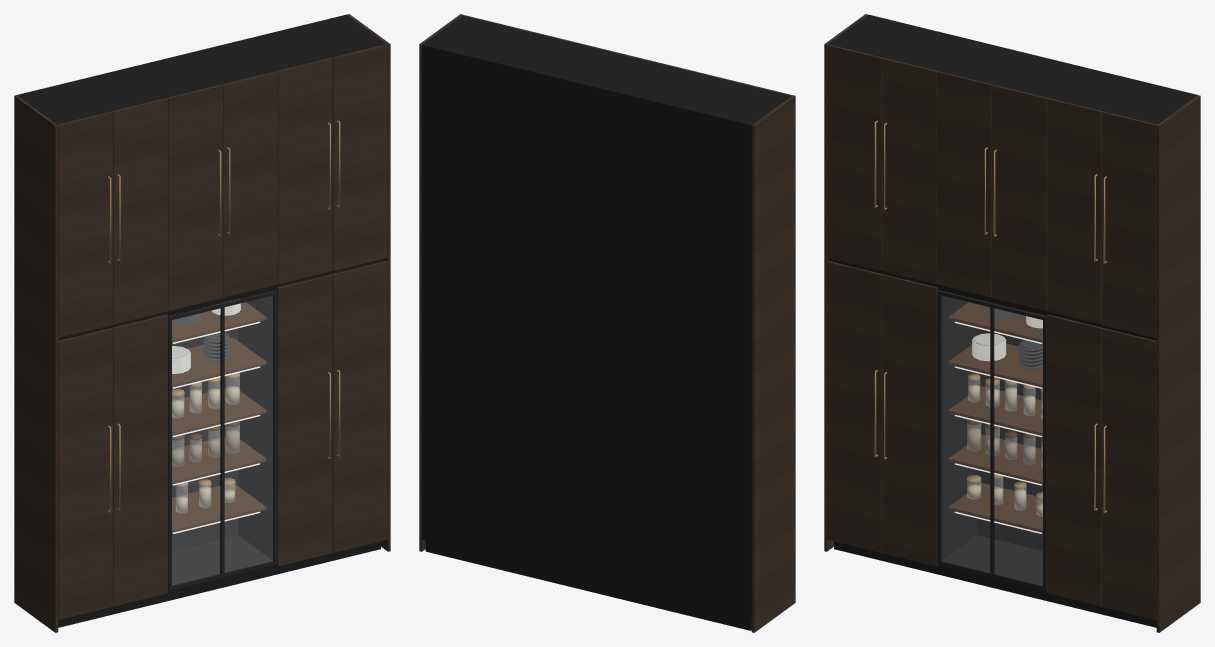
The model's file is kitchen_pantry.gltf.
The picture shows the model from 3 angles, left to right: view 1: azimuth 30°, elevation 25°; view 2: azimuth 150°, elevation 25°; view 3: azimuth 330°, elevation 25°; orthographic projection.
Parts seen in each view (by area): view 1: KitchenPantry_EndPanel0, KitchenPantry_SolidR_DoorL, KitchenPantry_SolidR_DoorR, KitchenPantry_SolidL_DoorR, KitchenPantry_SolidL_DoorL, KitchenPantry_Glass_R, KitchenPantry_Glass_L, KitchenPantry_Upper2_DoorR, KitchenPantry_Upper1_DoorR, KitchenPantry_Upper0_DoorL, KitchenPantry_Upper1_DoorL, KitchenPantry_Upper0_DoorR (+25 smaller); view 2: KitchenPantry_BodyL, KitchenPantry_BodyR, KitchenPantry_BodyM_Back, KitchenPantry_EndPanel0, KitchenPantry_BodyM_Top, KitchenPantry_Plinth, KitchenPantry_EndPanel1; view 3: KitchenPantry_EndPanel1, KitchenPantry_SolidL_DoorR, KitchenPantry_SolidL_DoorL, KitchenPantry_SolidR_DoorL, KitchenPantry_SolidR_DoorR, KitchenPantry_Glass_L, KitchenPantry_Glass_R, KitchenPantry_Upper0_DoorL, KitchenPantry_Upper1_DoorL, KitchenPantry_Upper2_DoorR, KitchenPantry_Upper1_DoorR, KitchenPantry_Upper2_DoorL (+26 smaller).
Part boxes in pixels (x1,y1,x2,y2): KitchenPantry_EndPanel0: (14,95,58,632); KitchenPantry_SolidR_DoorL: (277,274,332,566); KitchenPantry_SolidR_DoorR: (332,261,387,552); KitchenPantry_SolidL_DoorR: (112,314,167,606); KitchenPantry_SolidL_DoorL: (58,328,112,619); KitchenPantry_Glass_R: (225,296,272,571); KitchenPantry_Glass_L: (172,309,219,584); KitchenPantry_Upper2_DoorR: (332,44,387,270); KitchenPantry_Upper1_DoorR: (222,71,277,297); KitchenPantry_Upper0_DoorL: (57,111,112,337); KitchenPantry_Upper1_DoorL: (167,84,222,310); KitchenPantry_Upper0_DoorR: (112,98,167,324); KitchenPantry_BodyL: (641,69,791,620); KitchenPantry_BodyR: (422,15,571,566); KitchenPantry_BodyM_Back: (532,71,642,592); KitchenPantry_EndPanel0: (751,95,795,632); KitchenPantry_BodyM_Top: (532,42,681,317); KitchenPantry_Plinth: (425,541,751,630); KitchenPantry_EndPanel1: (419,14,462,551); KitchenPantry_EndPanel1: (1156,95,1200,632); KitchenPantry_SolidL_DoorR: (882,274,937,566); KitchenPantry_SolidL_DoorL: (827,261,882,552); KitchenPantry_SolidR_DoorL: (1047,314,1102,606); KitchenPantry_SolidR_DoorR: (1102,328,1156,619); KitchenPantry_Glass_L: (942,296,989,571); KitchenPantry_Glass_R: (995,309,1042,584); KitchenPantry_Upper0_DoorL: (827,44,882,270); KitchenPantry_Upper1_DoorL: (937,71,992,297); KitchenPantry_Upper2_DoorR: (1102,111,1157,337); KitchenPantry_Upper1_DoorR: (992,84,1047,310); KitchenPantry_Upper2_DoorL: (1047,98,1102,324).
Bounding box in the file's own units: 2.9 × 4.19 × 0.6524.
Materials: 12 (2 with a texture image).
